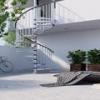stairs: (35, 51, 54, 76), (16, 29, 39, 46)
